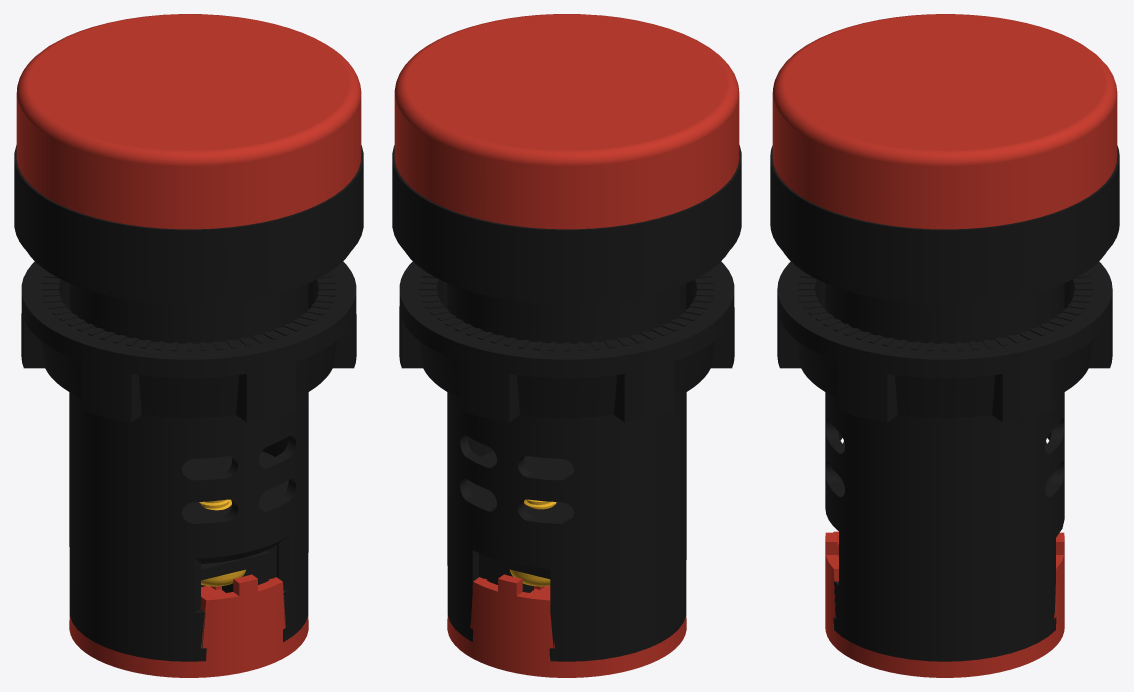
Rendered from AD16-22DS Pilot Light REDv1.fbx.
The picture shows the model from 3 angles, left to right: view 1: azimuth 30°, elevation 25°; view 2: azimuth 150°, elevation 25°; view 3: azimuth 270°, elevation 25°; orthographic projection.
Visible parts, largest first — view 1: Body1, Body2, Body3, Body4, Body5, Body6; view 2: Body1, Body2, Body3, Body4, Body8, Body7; view 3: Body1, Body2, Body3, Body4.
Part boxes in pixels (x1,y1,x2,y2): Body1: (14, 145, 363, 661); Body2: (16, 14, 361, 229); Body3: (21, 261, 356, 422); Body4: (69, 574, 308, 677); Body5: (201, 550, 269, 580); Body6: (199, 499, 245, 586); Body1: (392, 145, 741, 661); Body2: (394, 14, 739, 229); Body3: (399, 261, 734, 422); Body4: (447, 574, 686, 677); Body8: (510, 499, 556, 586); Body7: (486, 556, 550, 579); Body1: (770, 145, 1119, 661); Body2: (772, 14, 1117, 229); Body3: (777, 261, 1112, 422); Body4: (825, 531, 1064, 677).
Size of the model in its own units: 29.2 by 50.2 by 29.2.
